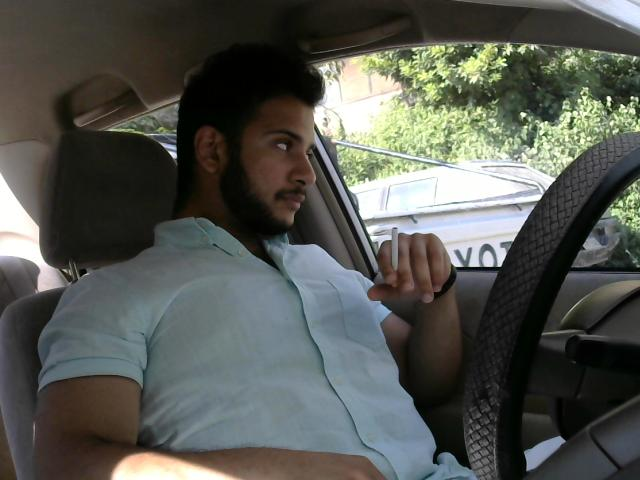Smoking: (388, 224, 405, 293)
